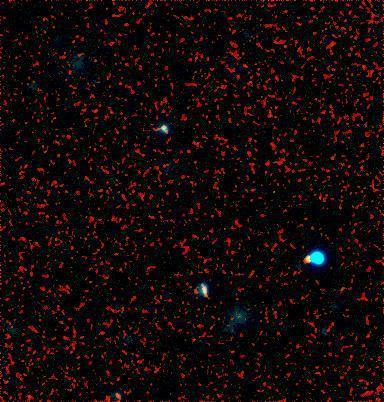star: (292, 247, 322, 277)
